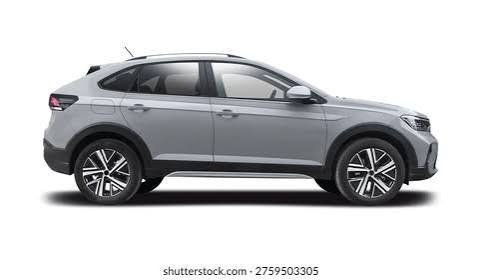car: (37, 46, 441, 203), (34, 56, 432, 199)
